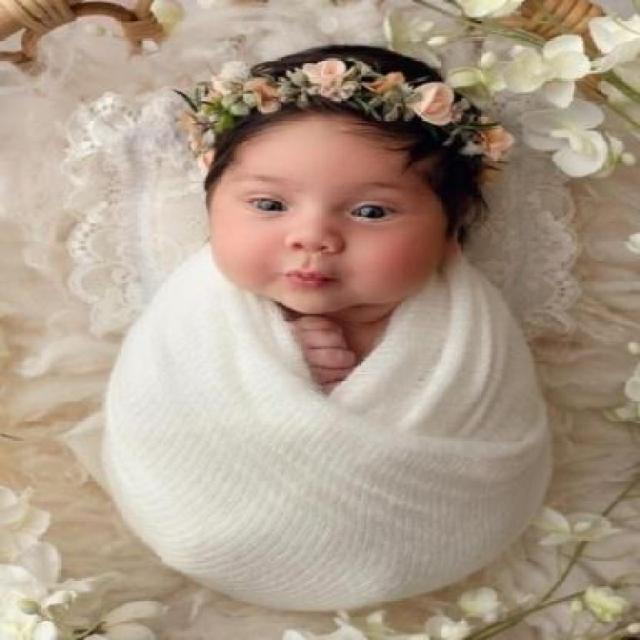baby: (102, 40, 556, 600)
